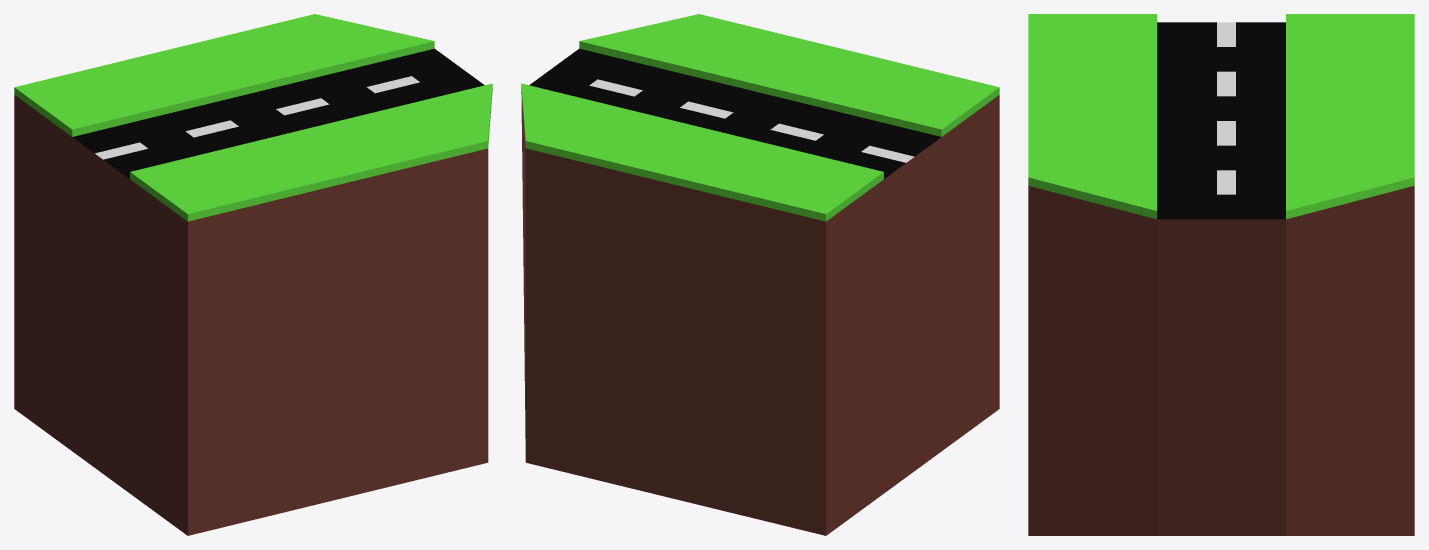
File: Island.fbx
3 views of the same model, side by side, from view 1: azimuth 30°, elevation 25°; view 2: azimuth 150°, elevation 25°; view 3: azimuth 270°, elevation 25° (orthographic). The views are drawn at different scales.
Visible parts, largest first — view 1: Cube; view 2: Cube; view 3: Cube.
Boxes of the visible parts, x1,y1,x2,y2 form: Cube: [14, 14, 492, 535]; Cube: [521, 14, 999, 535]; Cube: [1028, 14, 1414, 535].
Size of the model in its own units: 241 by 205 by 200.
